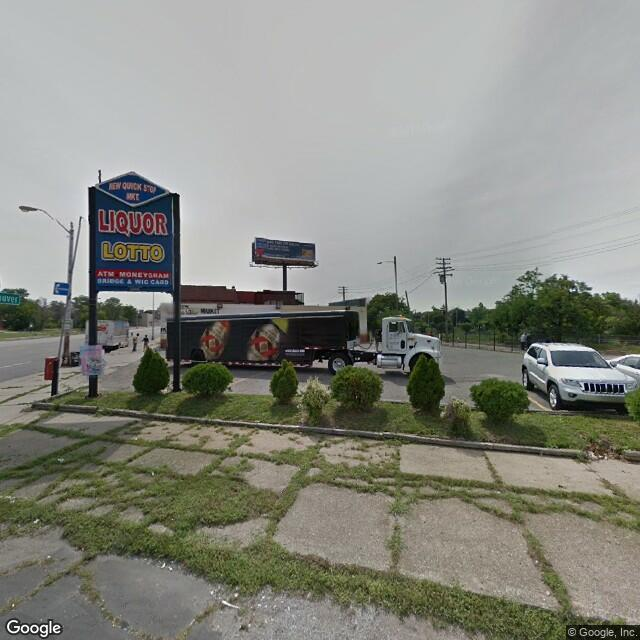litter: (217, 594, 245, 612), (155, 556, 180, 573), (51, 452, 71, 466), (143, 468, 164, 479), (27, 514, 43, 528)
